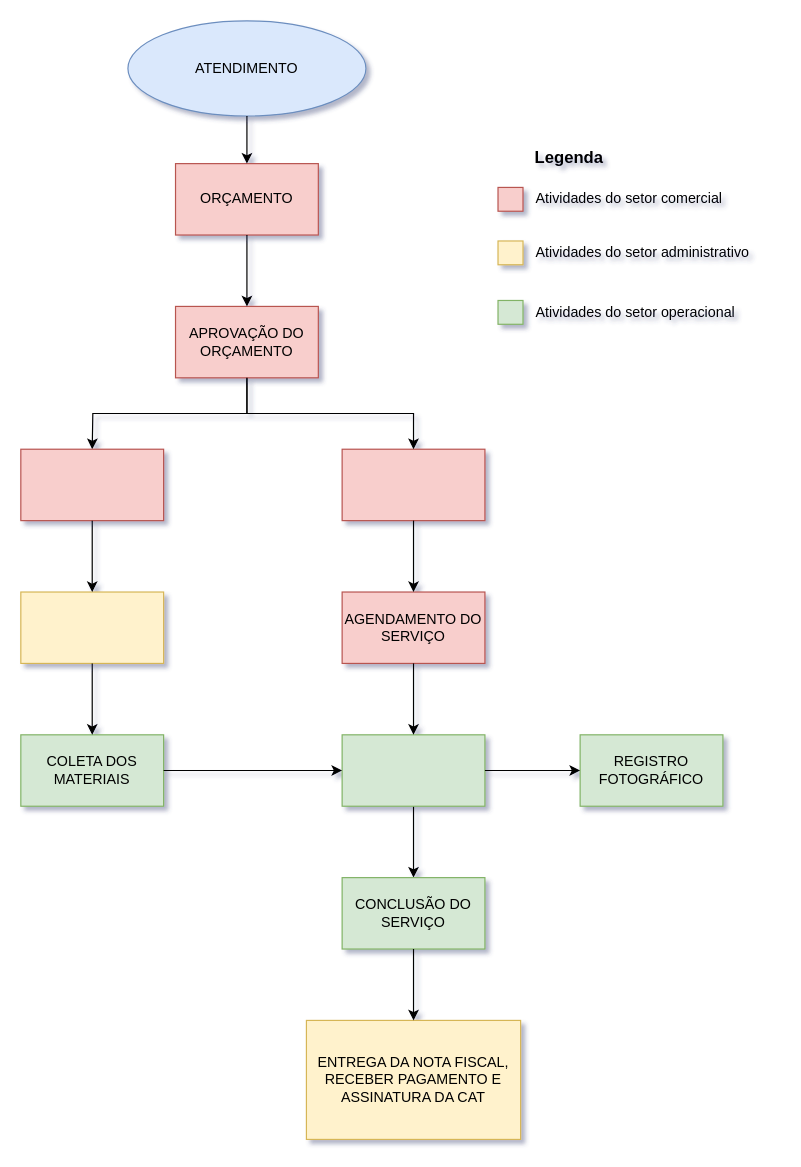
The diagram is 801 pixels wide and 1167 high, and some of its shapes have lost their labels. The centre of each missing label's shape, as x and y in pixels:
"COMPRA DOS MATERIAIS" goes at (x=92, y=627).
"EXECUÇÃO DO SERVIÇO" goes at (x=413, y=770).
"LIBERAÇÃO DA ORDEM DE COMPRA" goes at (x=92, y=484).
"LIBERAÇÃO DA ORDEM DE SERVIÇO" goes at (x=413, y=484).
